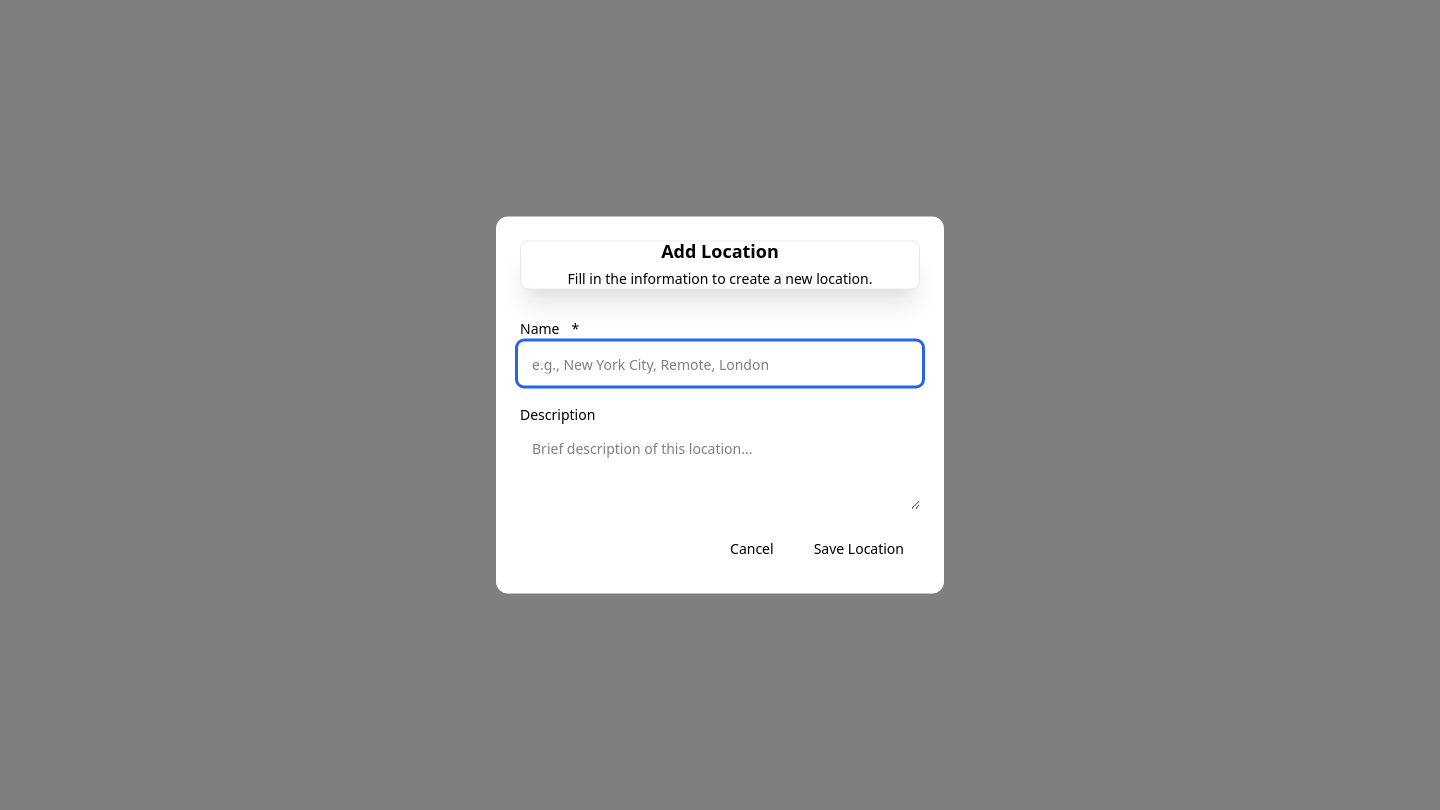
Test: LocationModal › Error Handling › shows error message on API failure
This screenshot has width=1440, height=810.
Type "Test" into the field labelled "Name *" at (720, 364), box [520, 344, 920, 384]
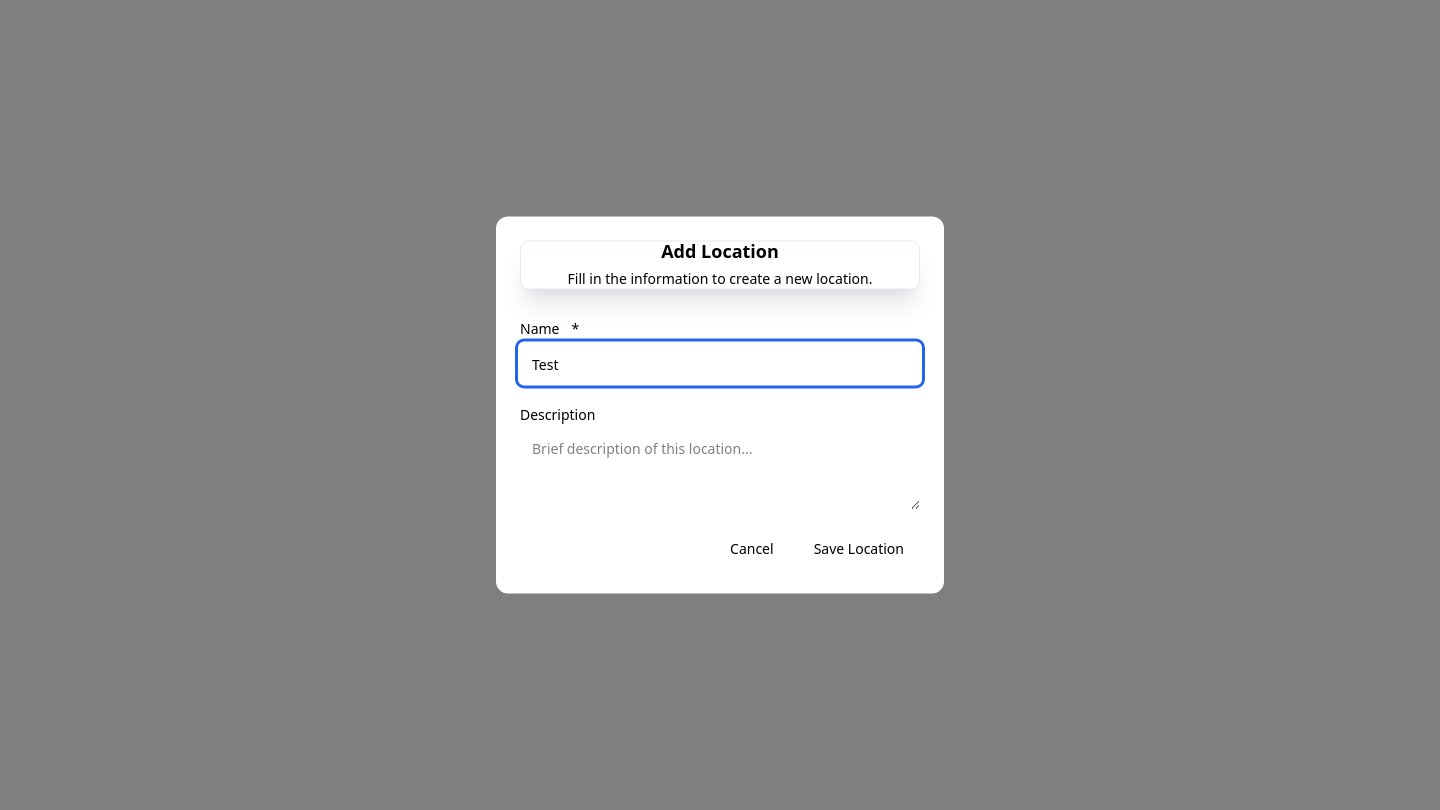
Click the button "Save Location" at (859, 548), box [798, 526, 920, 570]
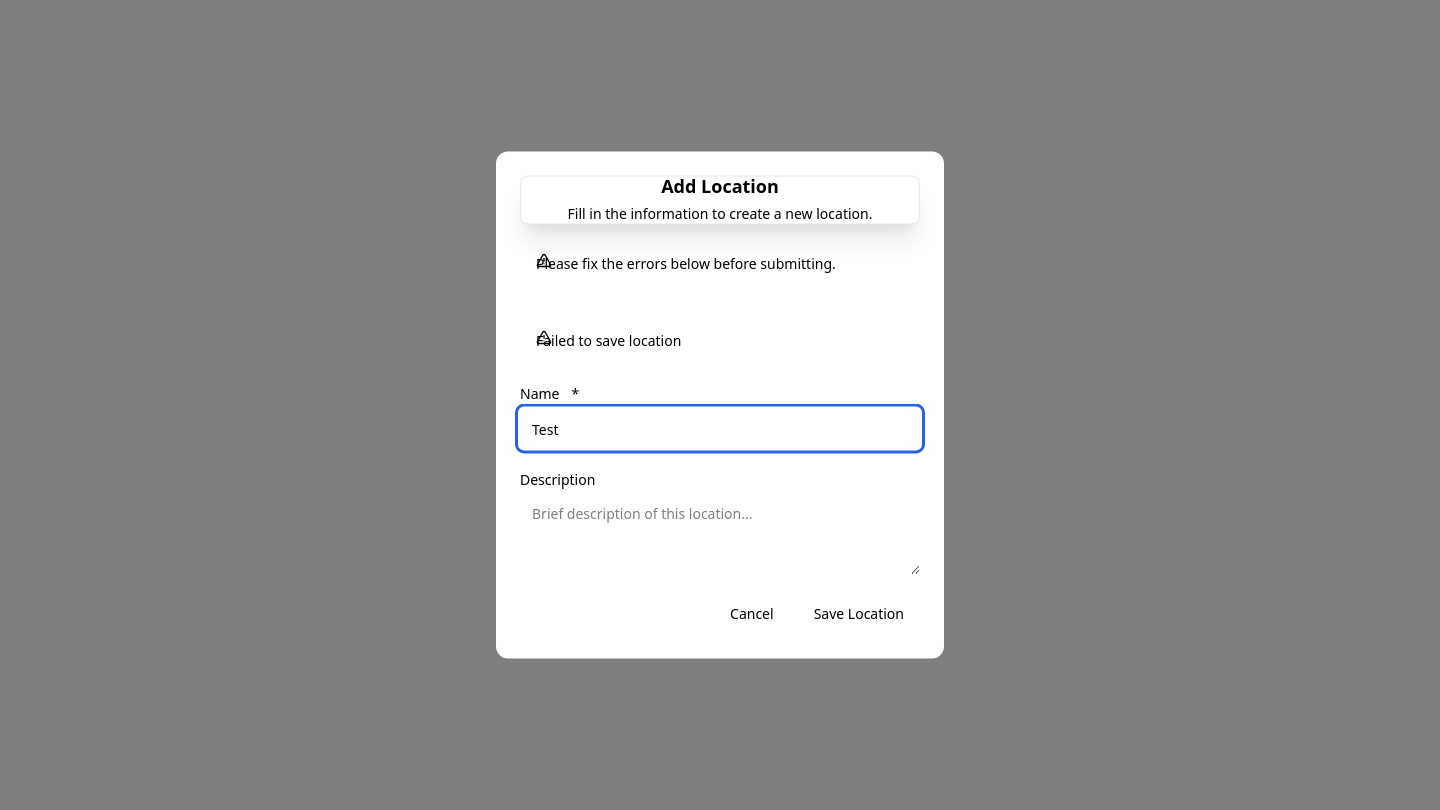
Expected: the text "Failed to save location" is shown, [536, 330, 681, 350]
